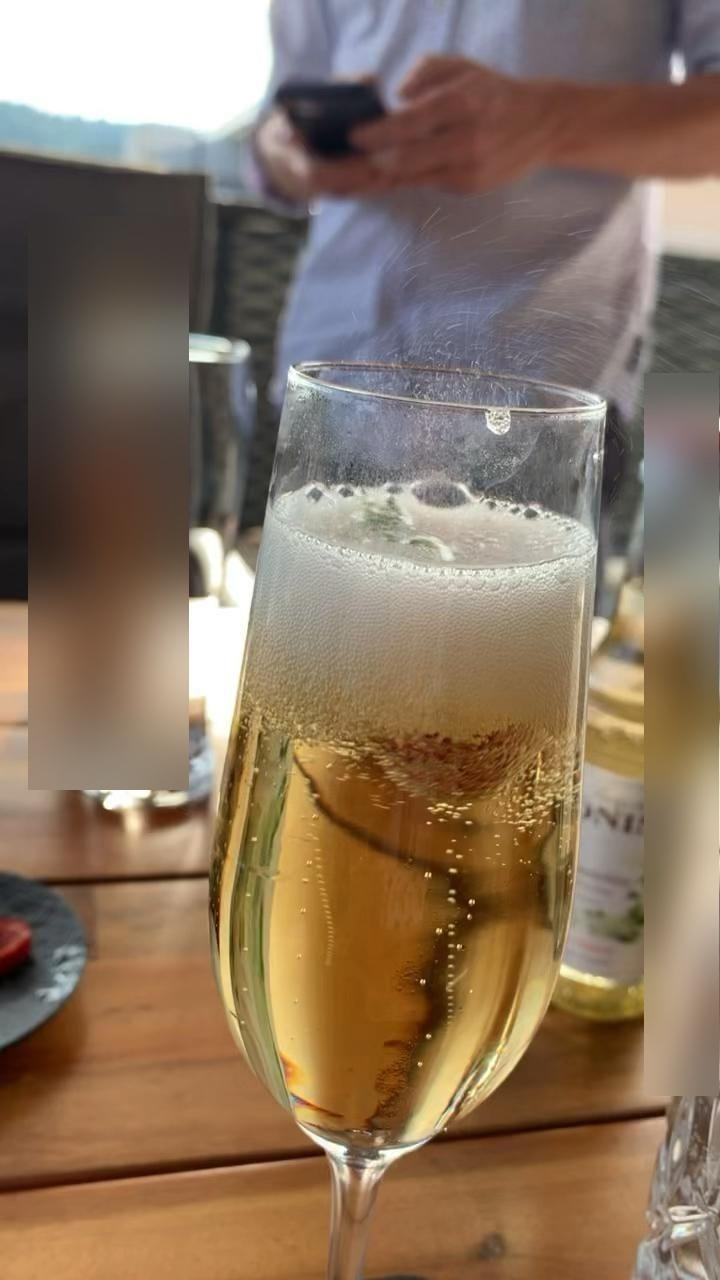glass-wine: (200, 356, 605, 1277)
